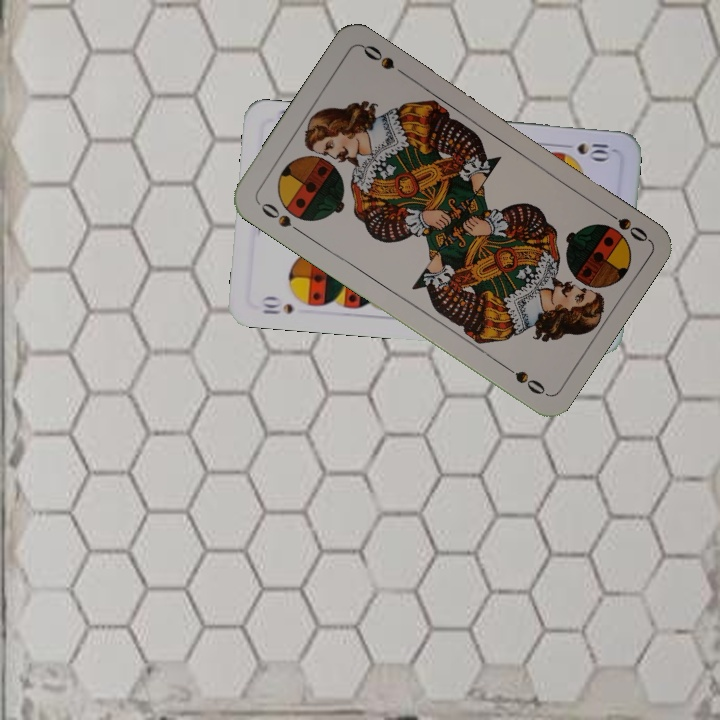S10: (557, 139, 612, 162), (258, 293, 296, 317)
SO: (598, 204, 651, 245), (257, 198, 306, 237)
